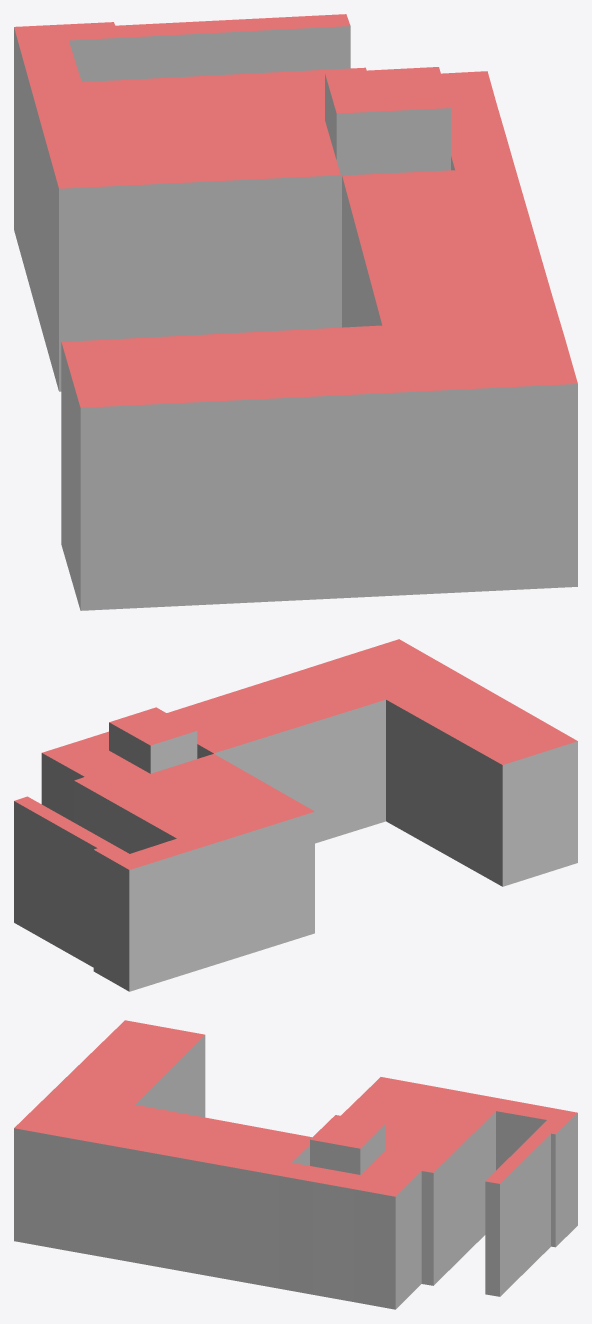
The model's file is DEBY_LOD2_4959317.gltf.
3 renders of one model, top to bottom at view 1: azimuth 30°, elevation 25°; view 2: azimuth 150°, elevation 25°; view 3: azimuth 270°, elevation 25°, orthographic. The views are drawn at different scales.
Visible parts, largest first — view 1: Z_UP; view 2: Z_UP; view 3: Z_UP.
Part boxes in pixels (left/top/right/bottom): Z_UP: left=14, top=14, right=577, bottom=610; Z_UP: left=14, top=639, right=577, bottom=991; Z_UP: left=14, top=1020, right=577, bottom=1309.
Size of the model in its own units: 47.16 by 17.33 by 63.65.
